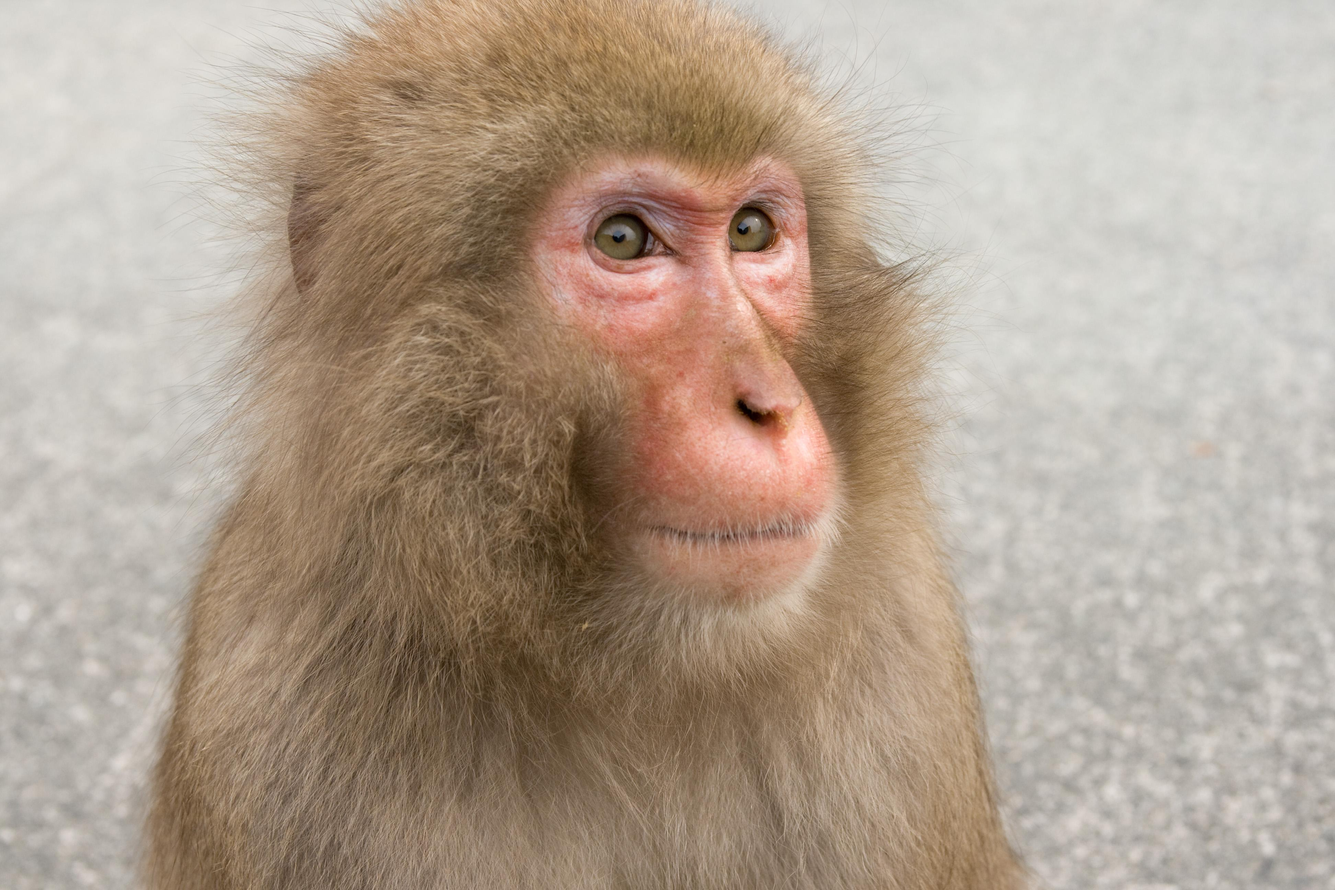monkey: (146, 0, 1023, 890)
